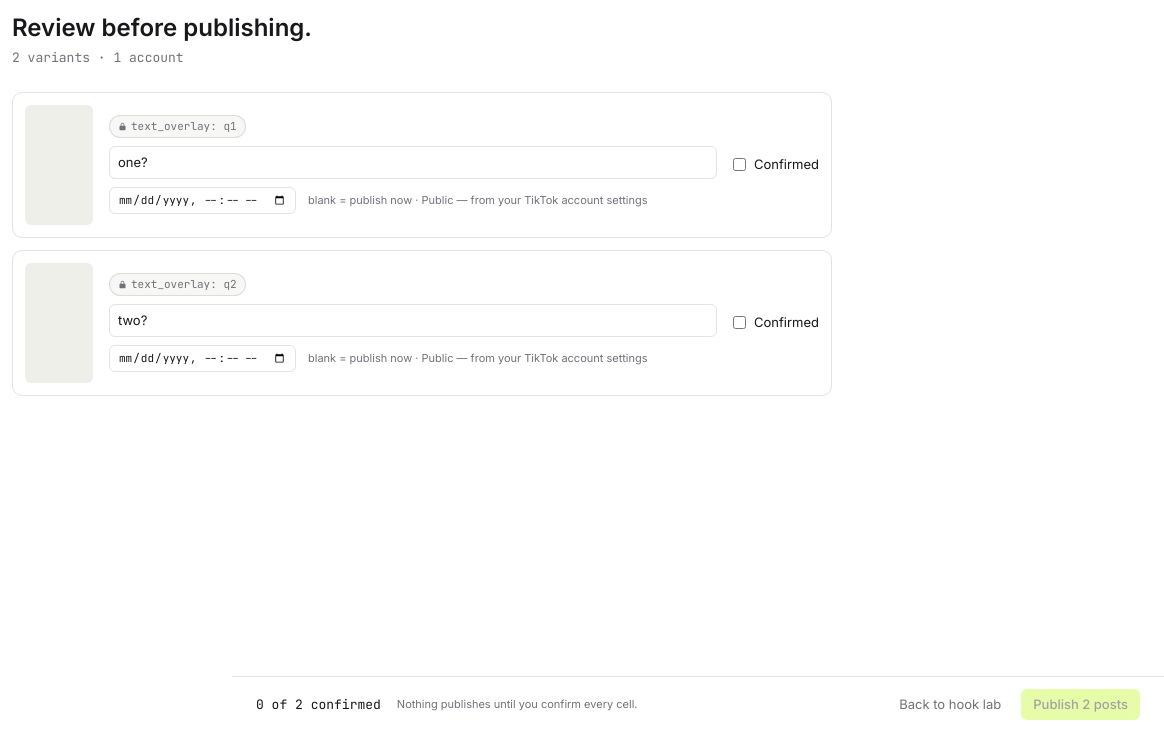
Test: publish stays disabled until every cell is confirmed
expect the button "Publish 2 posts" is disabled: met, box [1021,688,1140,720]
What coordinates should you click on to do the following:
click the 1st checkbox labelled "Confirmed"
I would click on:
 (740, 164)
Its box is [733,158,746,171].
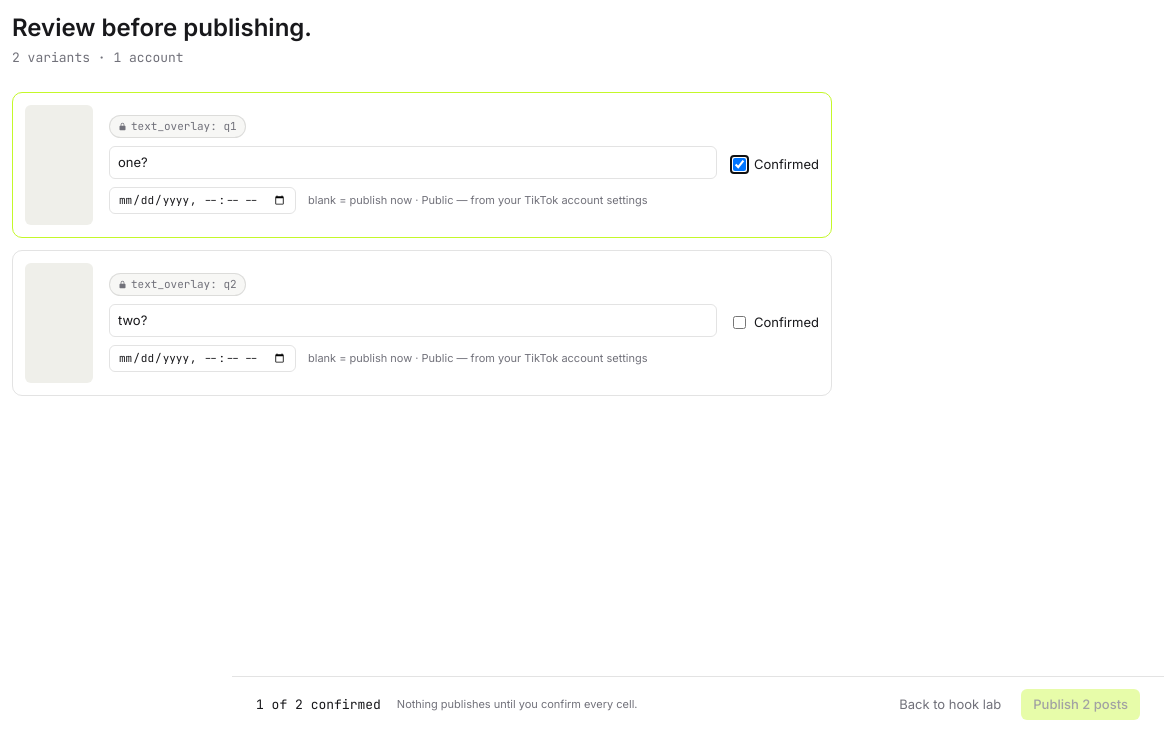
What coordinates should you click on to do the following:
click the 2nd checkbox labelled "Confirmed"
I would click on:
 (740, 322)
Its box is [733,316,746,329].
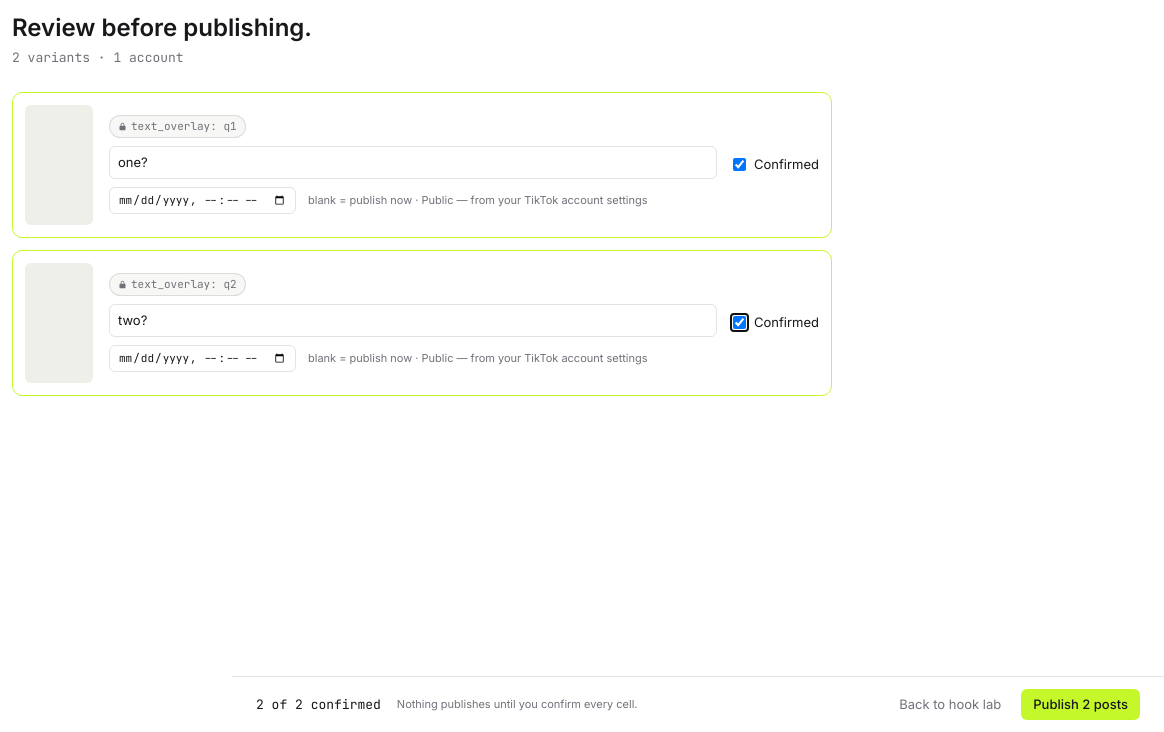
expect the button "Publish 2 posts" is enabled: met, box [1021,688,1140,720]
